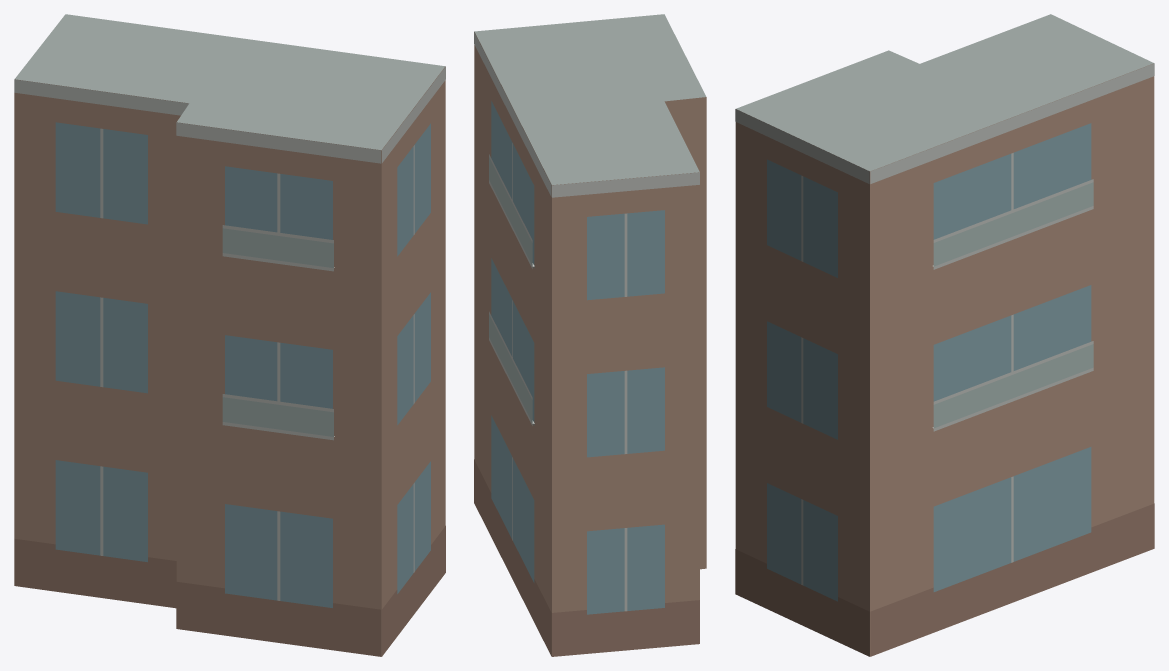
The model's file is survey-upis-32688622.glb.
3 renders of one model, left to right at view 1: azimuth 30°, elevation 25°; view 2: azimuth 150°, elevation 25°; view 3: azimuth 270°, elevation 25°, orthographic. The views are drawn at different scales.
Visible parts, largest first — view 1: survey-upis-32688622.tmp; view 2: survey-upis-32688622.tmp; view 3: survey-upis-32688622.tmp.
Boxes of the visible parts, x1=… form: survey-upis-32688622.tmp: x1=14, y1=14, x2=445, y2=656; survey-upis-32688622.tmp: x1=474, y1=14, x2=706, y2=656; survey-upis-32688622.tmp: x1=735, y1=14, x2=1154, y2=656.
Bounding box in the file's own units: 6.37 × 9.15 × 7.16.
